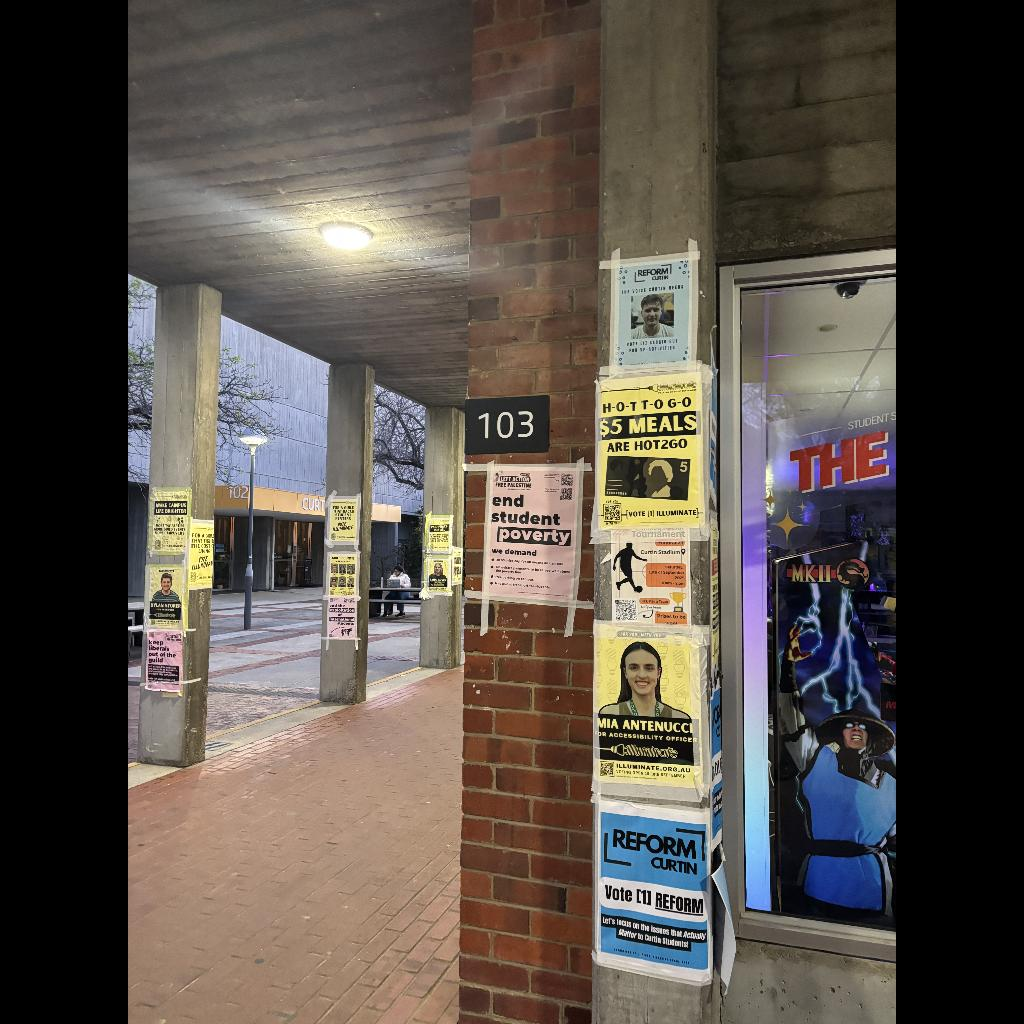BuildingCodes: (474, 409, 538, 443)
